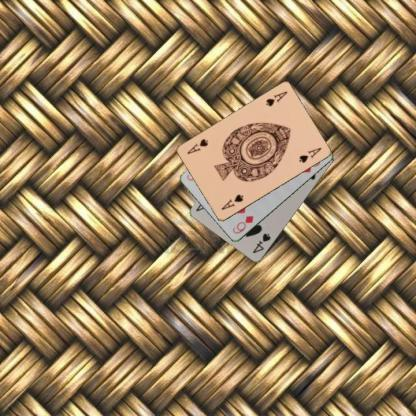4s: (250, 230, 272, 255)
6d: (230, 213, 255, 235)
As: (218, 192, 245, 211), (264, 89, 288, 108)
